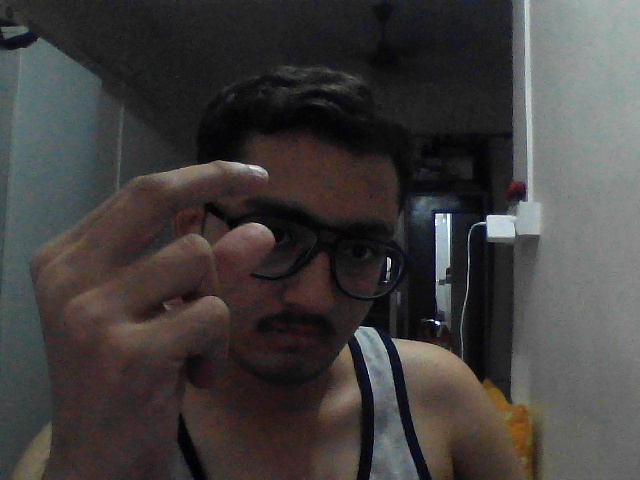No: (18, 142, 303, 416)
